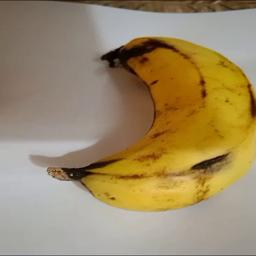Banana Semifresh: (43, 34, 256, 216)
